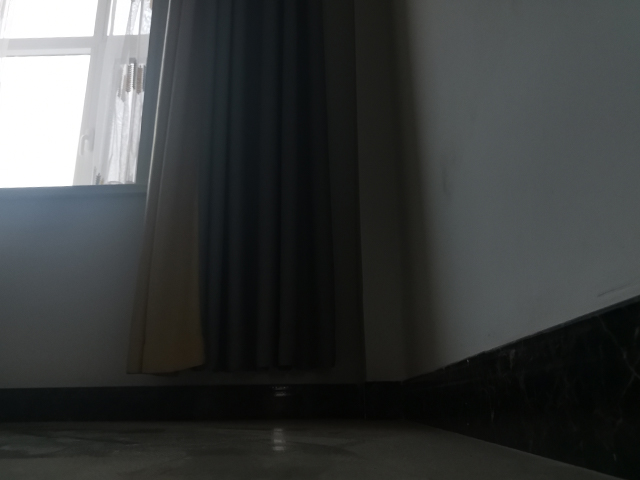curtain: (123, 1, 371, 377)
